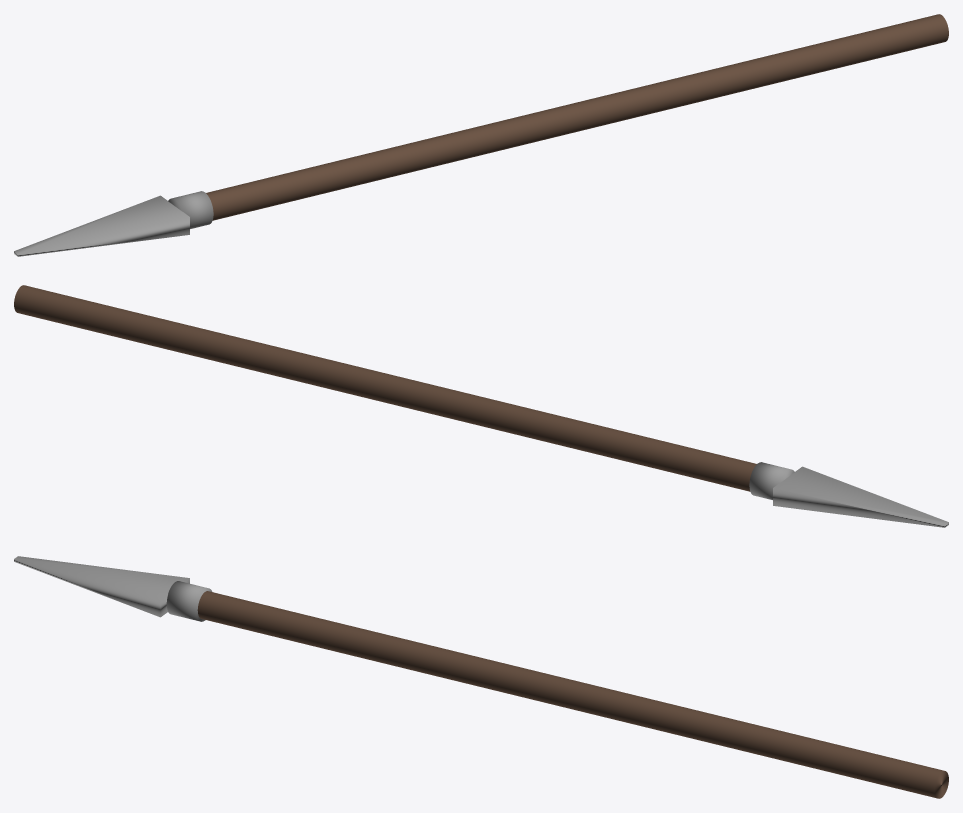
Rendered from spear.fbx.
The picture shows the model from 3 angles, top to bottom: view 1: azimuth 30°, elevation 25°; view 2: azimuth 150°, elevation 25°; view 3: azimuth 330°, elevation 25°; orthographic projection.
Visible parts, largest first — view 1: Cylinder, Cube, Cylinder.001; view 2: Cylinder, Cube, Cylinder.001; view 3: Cylinder, Cube, Cylinder.001.
Boxes of the visible parts, x1,y1,x2,y2 form: Cylinder: (206,14,948,220); Cube: (14,195,189,256); Cylinder.001: (168,191,213,228); Cylinder: (14,285,756,491); Cube: (773,466,948,527); Cylinder.001: (749,462,794,499); Cylinder: (197,591,948,798); Cube: (14,556,189,617); Cylinder.001: (166,581,212,621).
Bounding box in the file's own units: 372 × 12 × 20.51.
